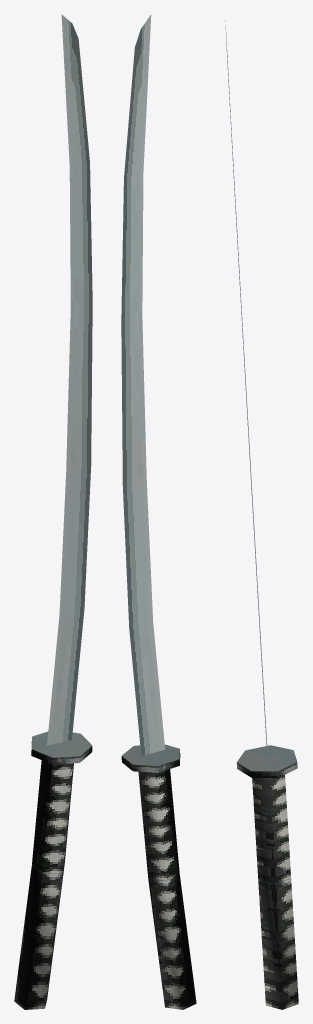
The model's file is Katana.fbx.
The picture shows the model from 3 angles, left to right: view 1: azimuth 30°, elevation 25°; view 2: azimuth 210°, elevation 25°; view 3: azimuth 270°, elevation 25°; orthographic projection. The views are drawn at different scales.
Parts seen in each view (by area): view 1: katana; view 2: katana; view 3: katana.
Part boxes in pixels (box(x1,y1,x2,y2)): katana: box(14, 14, 92, 1009); katana: box(121, 14, 196, 1009); katana: box(225, 20, 298, 1009).
Size of the model in its own units: 7.79 by 127 by 8.54.
Materials: 1 (1 with a texture image).
